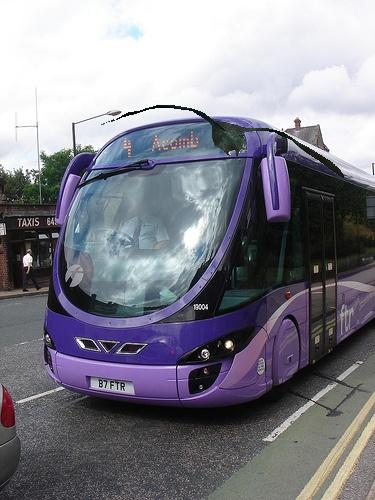tampered: (102, 106, 344, 178)
